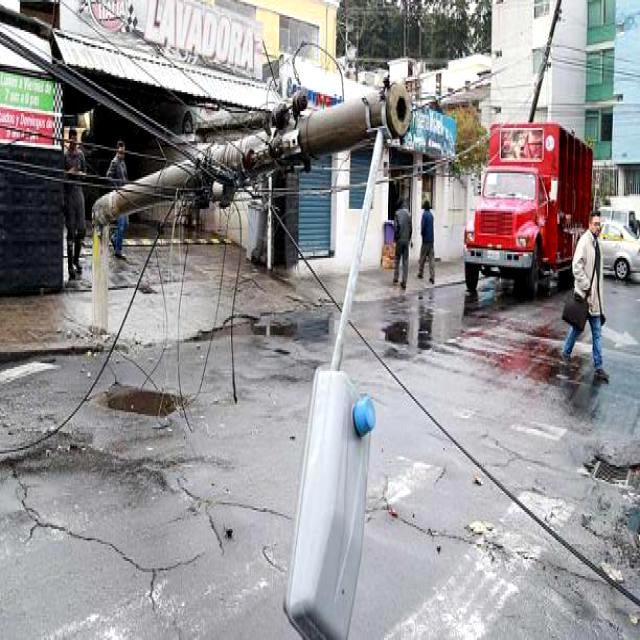Broken Pole: (83, 87, 410, 640)
